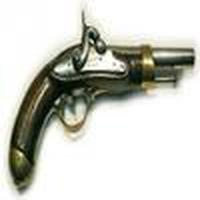gun: (7, 15, 197, 186)
